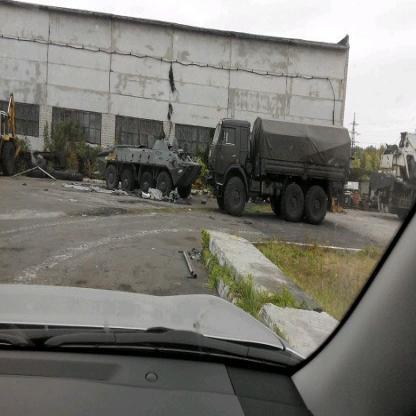MIL_IFV: (99, 134, 204, 197)
